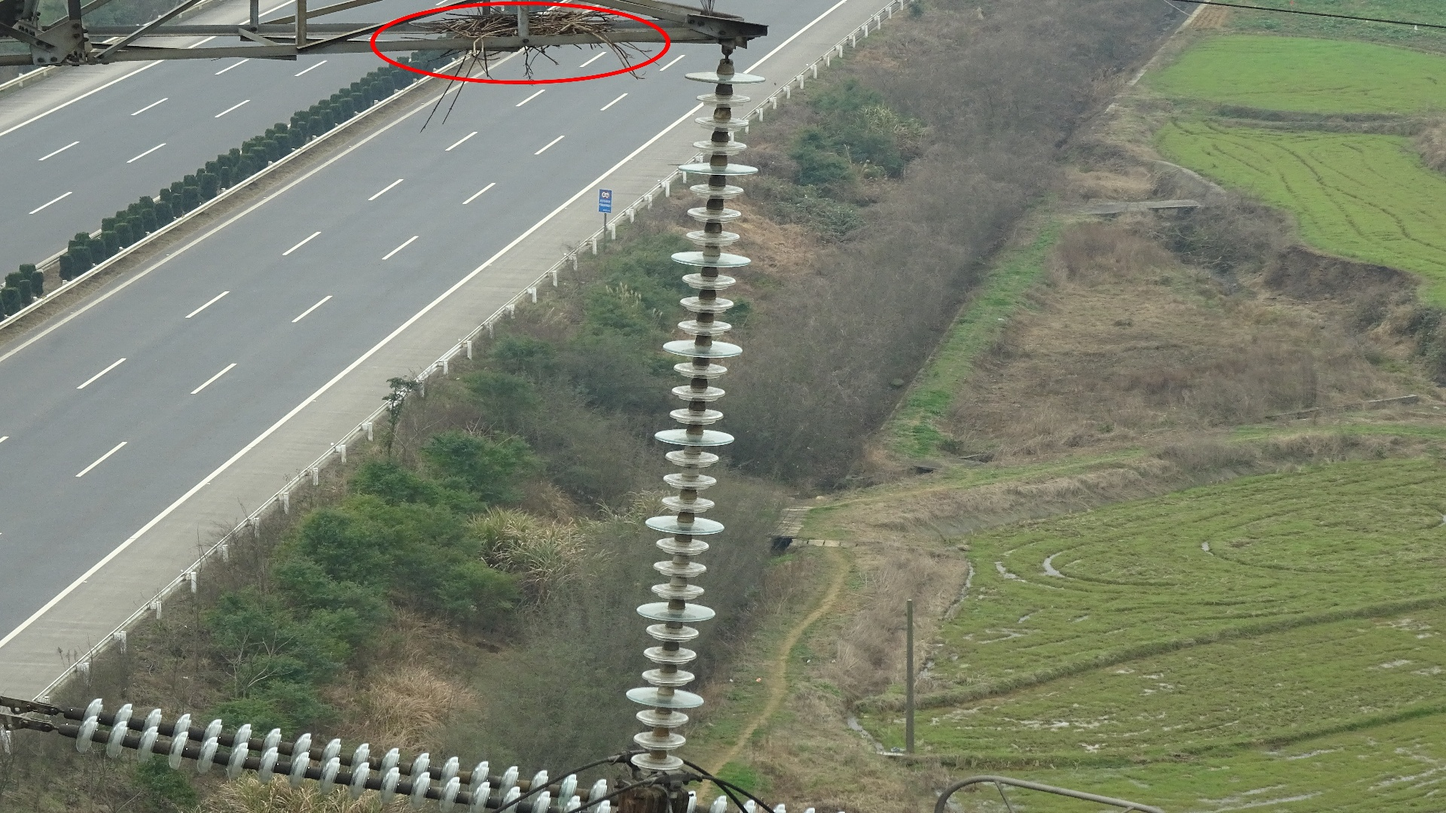insulator: (618, 60, 772, 778), (67, 688, 615, 813)
